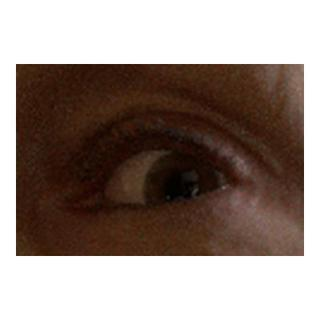pupil: (164, 172, 197, 205)
